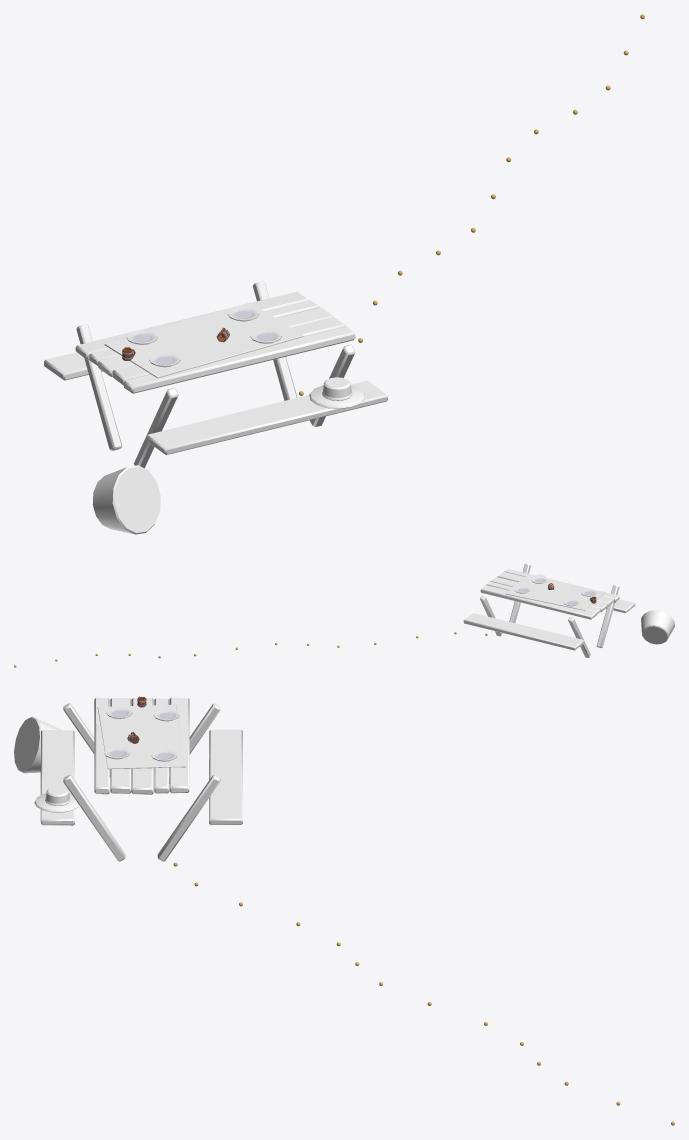
Rendered from picknick.glb.
3 renders of one model, top to bottom at view 1: azimuth 30°, elevation 25°; view 2: azimuth 150°, elevation 25°; view 3: azimuth 270°, elevation 25°, orthographic. The views are drawn at different scales.
Parts seen in each view (by area): view 1: picknick_netz; view 2: picknick_netz; view 3: picknick_netz.
Boxes of the visible parts, <box> form: picknick_netz: <box>44,14,644,534</box>; picknick_netz: <box>14,563,674,667</box>; picknick_netz: <box>14,696,674,1125</box>.
Size of what is drawn, in the model's own units: 7.91 by 1 by 5.89.
Materials: 9 (2 with a texture image).
